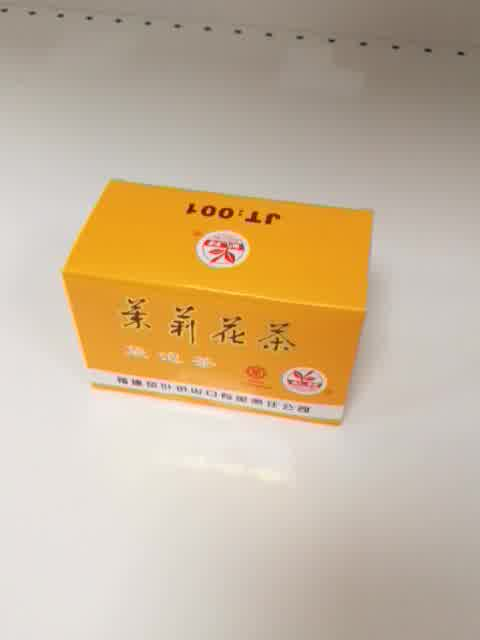jasminetea: (60, 175, 375, 430)
